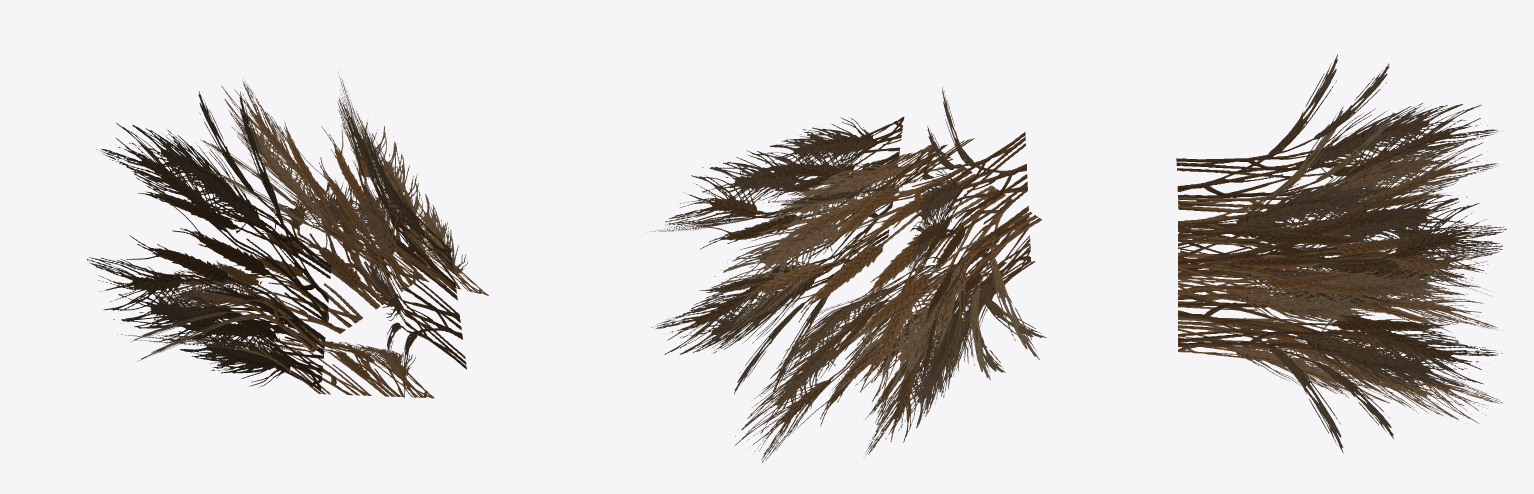
File: wheat_1.obj
3 renders of one model, left to right at view 1: azimuth 30°, elevation 25°; view 2: azimuth 150°, elevation 25°; view 3: azimuth 270°, elevation 25°, orthographic. The views are drawn at different scales.
Visible parts, largest first — view 1: wheat_1; view 2: wheat_1; view 3: wheat_1.
Boxes of the visible parts, box(x1,y1,x2,y2) form: wheat_1: box(87, 73, 488, 398); wheat_1: box(646, 86, 1046, 462); wheat_1: box(1176, 54, 1506, 453).
Size of the model in its own units: 1.24 by 1.16 by 1.04.
